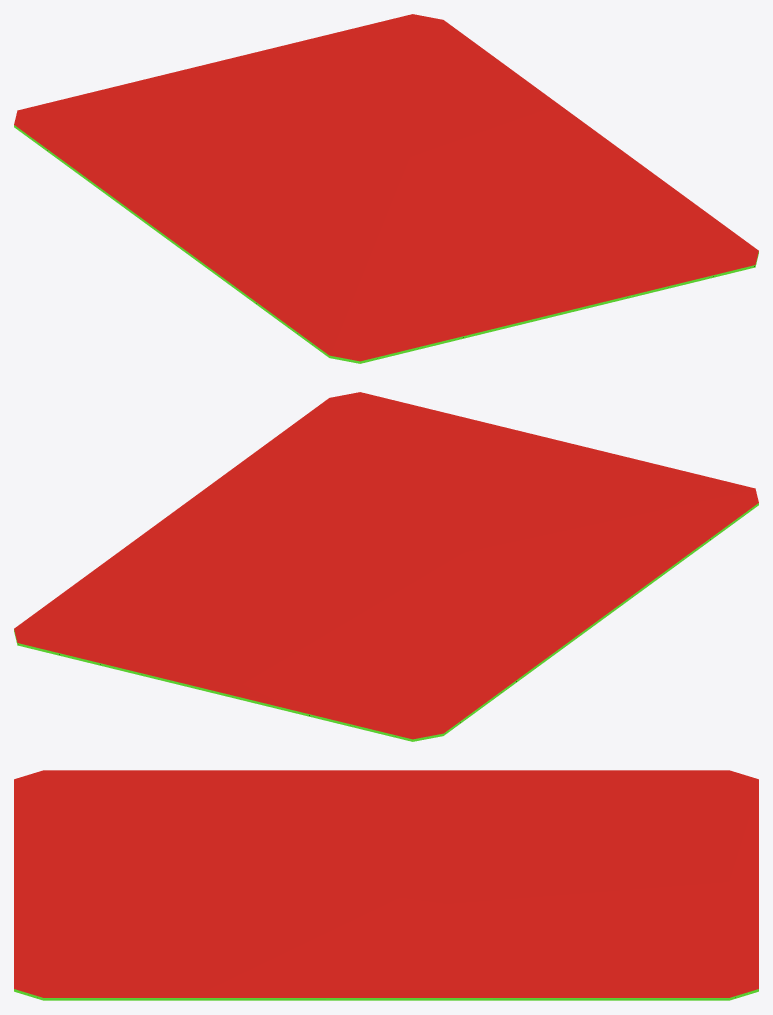
The model's file is Card.fbx.
The picture shows the model from 3 angles, top to bottom: view 1: azimuth 30°, elevation 25°; view 2: azimuth 150°, elevation 25°; view 3: azimuth 270°, elevation 25°; orthographic projection. The views are drawn at different scales.
Parts seen in each view (by area): view 1: Cube; view 2: Cube; view 3: Cube.
Boxes of the visible parts, <box> form: Cube: <box>14,14,758,363</box>; Cube: <box>14,392,758,741</box>; Cube: <box>14,770,758,1000</box>.
Size of the model in its own units: 178 by 1 by 246.
